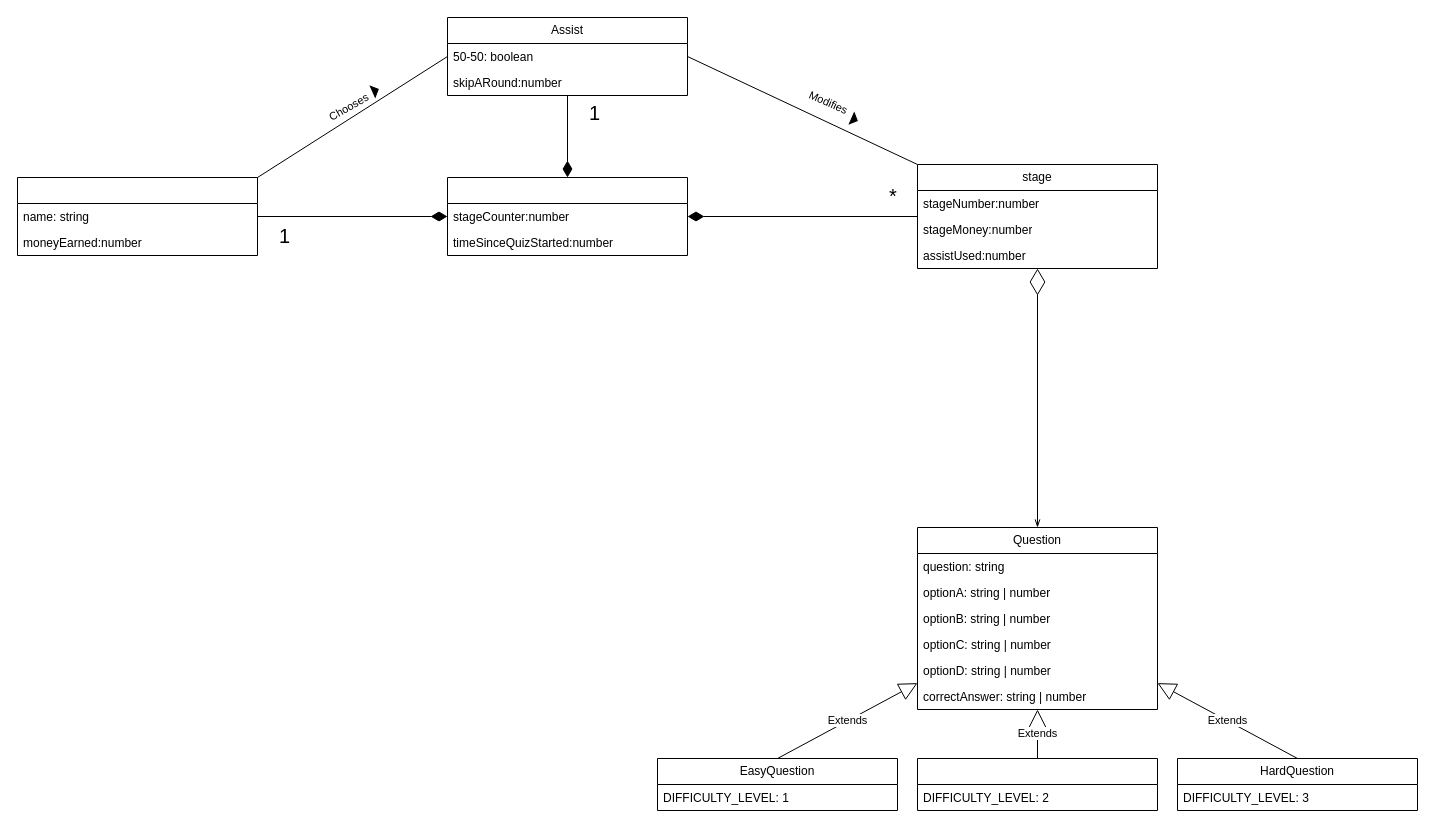
Image size: 1435x831. Some labels were removed from this diagram. Here are the shapes that lost their labels. From the top down, the box of each, then its label:
(16, 176, 258, 256): Player
(446, 176, 688, 256): TheQuiz
(916, 758, 1158, 810): MediocreQuestion
